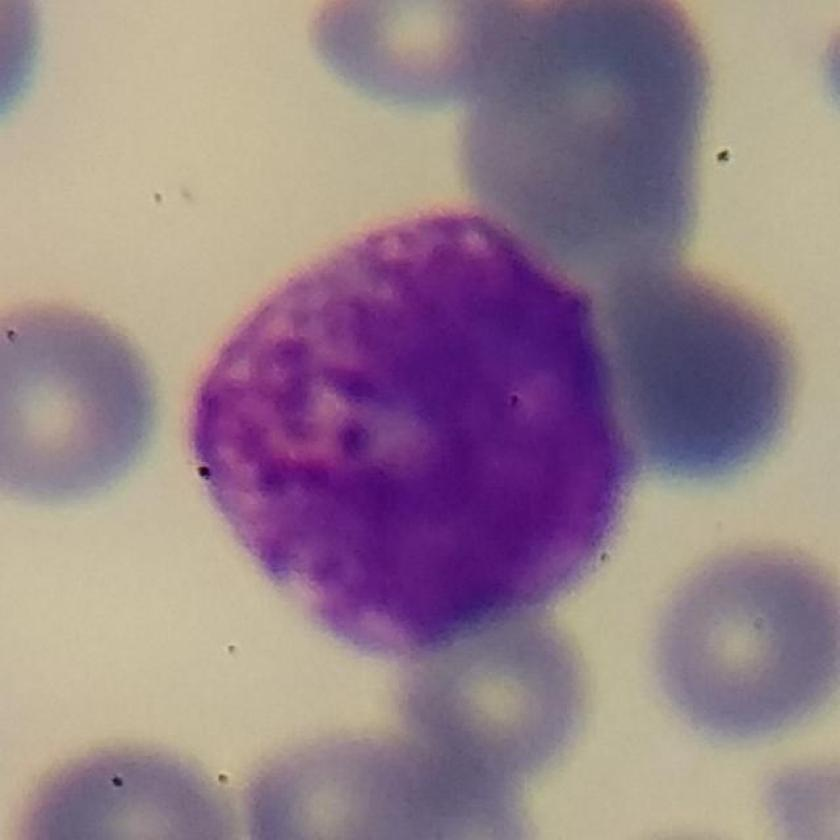basophil: (183, 207, 650, 660)
